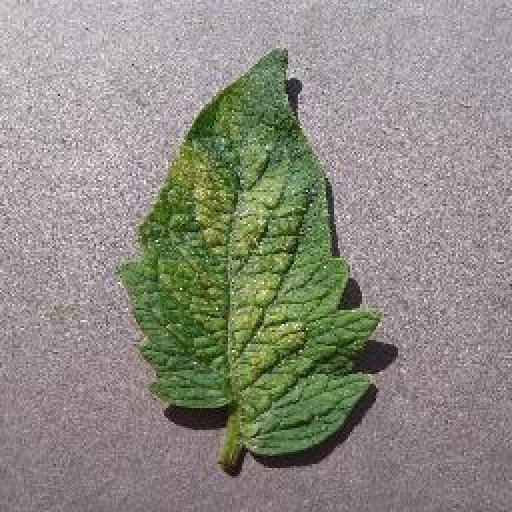disease_tomato: (120, 44, 380, 454)
